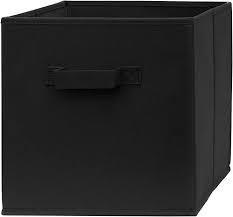cube: (1, 2, 233, 217)
